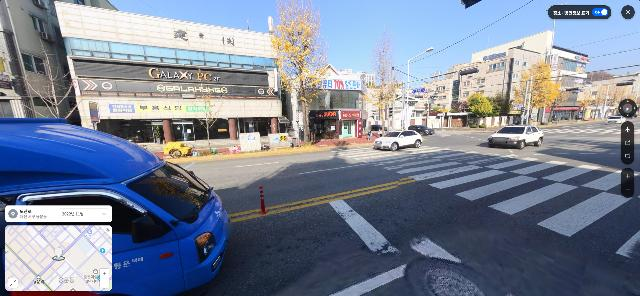ginkgo: (268, 0, 333, 145), (365, 16, 398, 135), (518, 49, 568, 125)
other: (21, 0, 77, 123), (188, 81, 227, 154), (466, 91, 494, 129), (579, 85, 607, 122), (491, 91, 515, 127), (553, 90, 580, 122), (611, 86, 632, 116)
